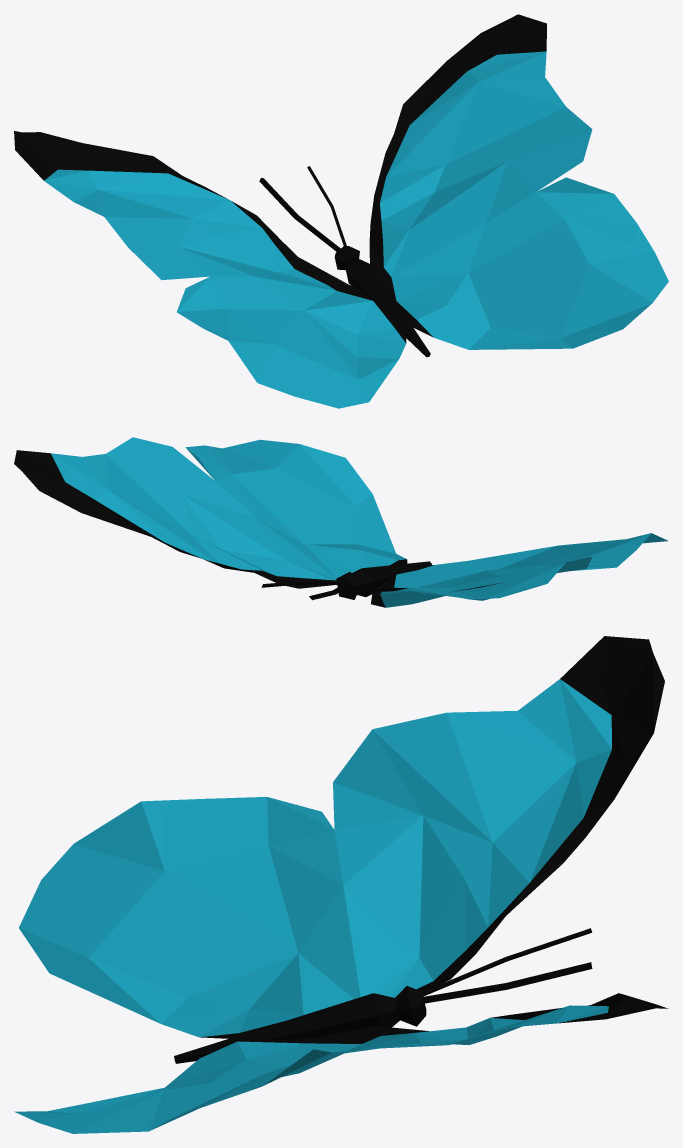
File: butterfly.fbx
3 renders of one model, top to bottom at view 1: azimuth 30°, elevation 25°; view 2: azimuth 150°, elevation 25°; view 3: azimuth 270°, elevation 25°, orthographic. The views are drawn at different scales.
Visible parts, largest first — view 1: Plane.005, Cylinder.007; view 2: Plane.005, Cylinder.007; view 3: Plane.005, Cylinder.007.
Part boxes in pixels (x1,y1,x2,y2): Plane.005: [14, 14, 668, 408]; Cylinder.007: [259, 166, 430, 357]; Plane.005: [14, 437, 667, 607]; Cylinder.007: [261, 561, 431, 600]; Plane.005: [14, 636, 668, 1133]; Cylinder.007: [174, 928, 592, 1063].
Size of the model in its own units: 117 by 35.23 by 85.37.
